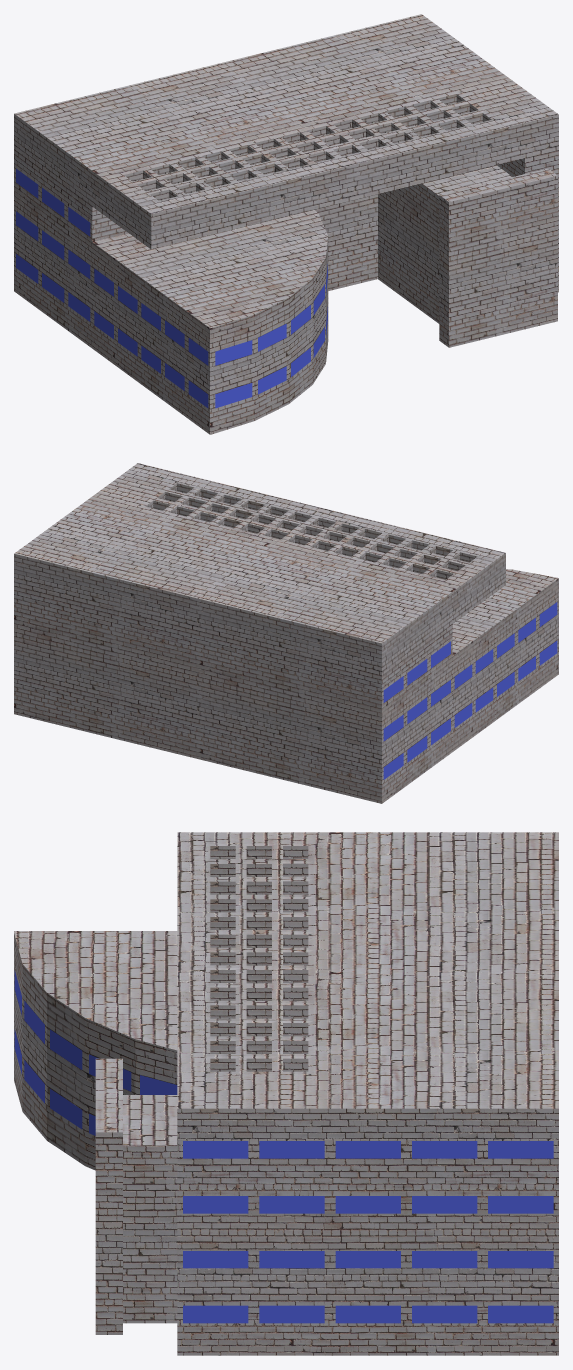
The model's file is Weilun.FBX.
3 renders of one model, top to bottom at view 1: azimuth 30°, elevation 25°; view 2: azimuth 150°, elevation 25°; view 3: azimuth 270°, elevation 25°, orthographic. The views are drawn at different scales.
Parts seen in each view (by area): view 1: Line001; view 2: Line001; view 3: Line001.
Boxes of the visible parts, <box> form: Line001: <box>14,14,558,434</box>; Line001: <box>14,463,558,803</box>; Line001: <box>14,832,558,1355</box>.
Bounding box in the file's own units: 120 × 50 × 100.
2 materials, 1 textured.
